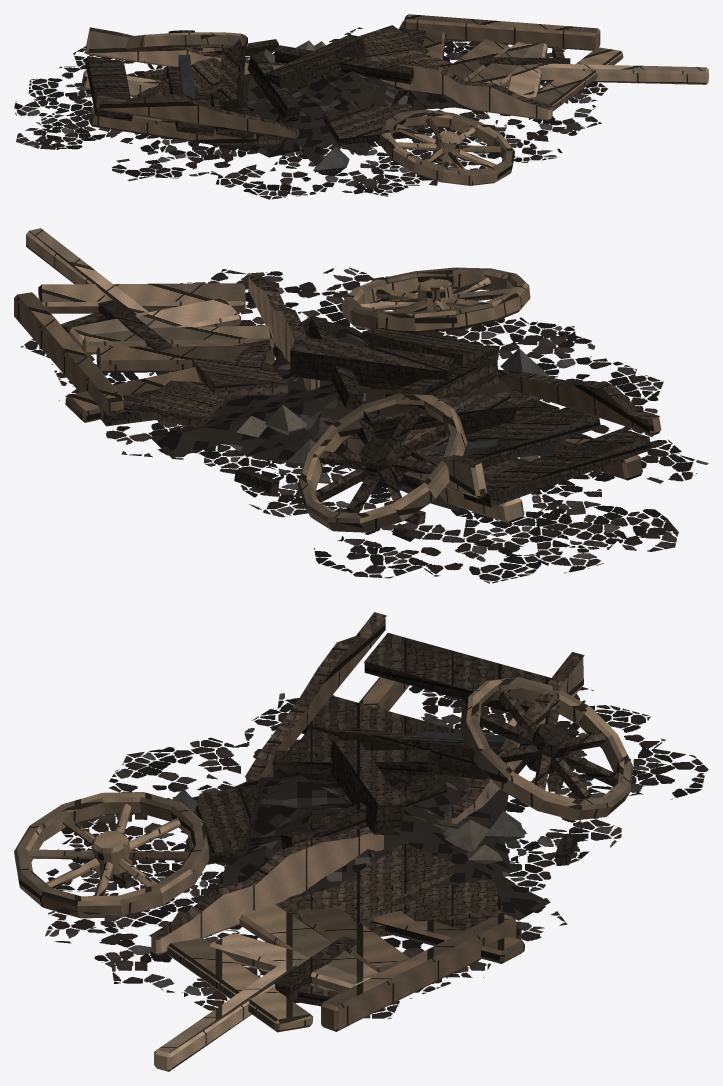
The model's file is CreCart01a.glb.
3 renders of one model, top to bottom at view 1: azimuth 30°, elevation 25°; view 2: azimuth 150°, elevation 25°; view 3: azimuth 270°, elevation 25°, orthographic. The views are drawn at different scales.
Visible parts, largest first — view 1: c_char; view 2: c_char; view 3: c_char.
Boxes of the visible parts, x1=… form: c_char: x1=14, y1=14, x2=708, y2=199; c_char: x1=14, y1=228, x2=708, y2=583; c_char: x1=14, y1=612, x2=708, y2=1071.
Size of the model in its own units: 4.1 by 0.5802 by 2.96.
Materials: 6 (6 with a texture image).
